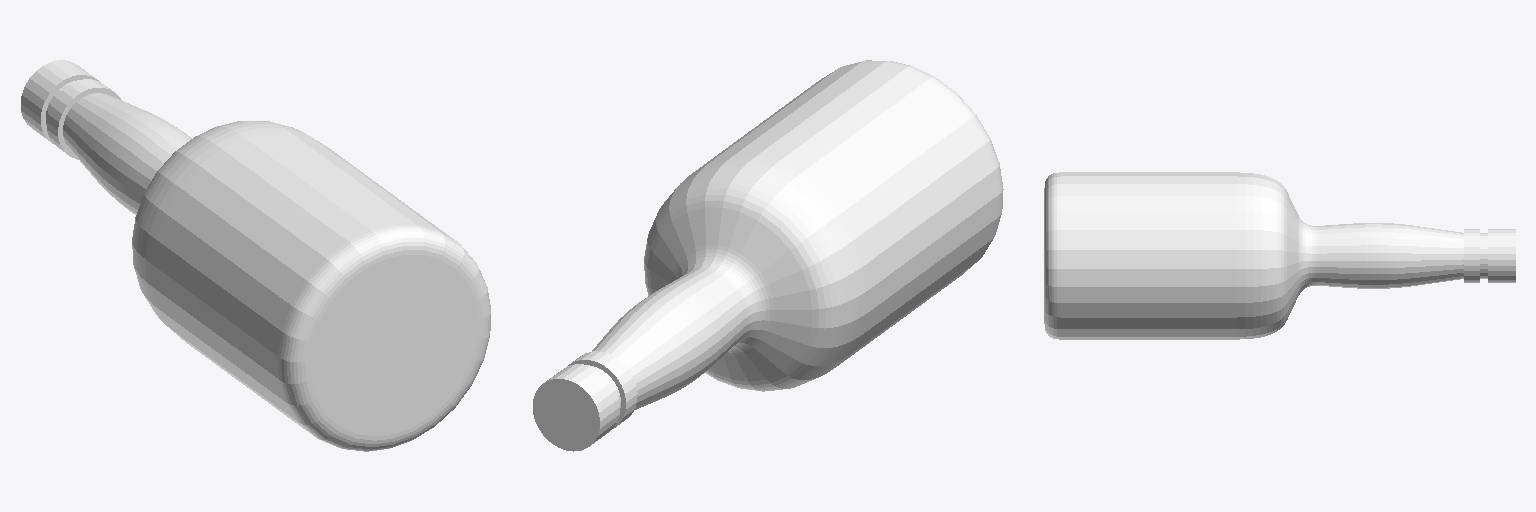
URDF robot description (glass_bottle):
<?xml version="1.0" ?>
<robot name="glass_bottle">
    <link name="baseLink">
        <contact>
        <friction_anchor/>
        <lateral_friction value="1.5"/>
        <rolling_friction value="0.1"/>
        <spinning_friction value="0.1"/>
        <contact_cfm value="1e-5"/>
        <contact_erp value="0.8"/>
        </contact>
        <visual>
            <origin rpy="0 0 0" xyz="0 0 0"/>
            <geometry>
                <mesh filename="assets/objects/glass_bottle/meshes/glass_bottle_textured.obj" scale="1 1 1"/>
            </geometry>
            <material name="white">
                <color rgba="1 1 1 1"/>
            </material>
        </visual>
        <collision>
            <origin rpy="0 0 0" xyz="0 0 0"/>
            <geometry>
                <mesh filename="assets/objects/glass_bottle/meshes/glass_bottle_textured.obj" scale="1 1 1"/>
            </geometry>
        </collision>
        <inertial>
            <origin rpy="0 0 0" xyz="0 0 0"/>
            <mass value="1.0"/>
            <inertia ixx="0.1" ixy="0" ixz="0" iyy="0.1" iyz="0" izz="0.1"/>
        </inertial>
    </link>
</robot>

--- Facts derived from the render (not from the file) ---
The picture shows the robot from 3 angles, left to right: view 1: azimuth 30°, elevation 25°; view 2: azimuth 150°, elevation 25°; view 3: azimuth 270°, elevation 25°; orthographic projection.
Robot: glass_bottle — 1 links, 0 joints (none); root link baseLink; default pose: every joint at zero.
Visible links, largest first — view 1: baseLink; view 2: baseLink; view 3: baseLink.
Link boxes in pixels (box(x1,y1,x2,y2)): baseLink: box(21, 60, 490, 451); baseLink: box(533, 60, 1003, 451); baseLink: box(1044, 172, 1515, 339).
Size in the robot's own frame: 0.1049 by 0.295 by 0.1047 metres.
Meshes: 1 distinct files referenced, 1 mesh visuals loaded (1 OBJ).
